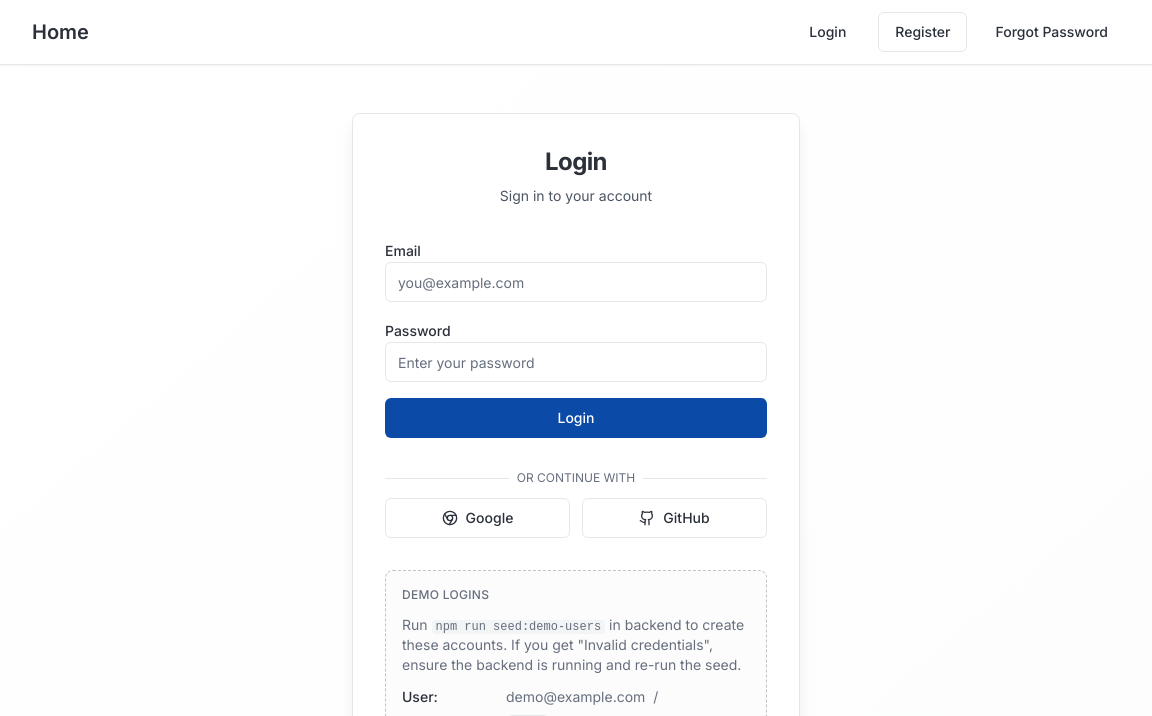
Login Page › should display error message on login failure
Type "test@example.com" into the field labelled "Email".
click(576, 282); type("test@example.com")  # box left=385, top=262, right=767, bottom=302
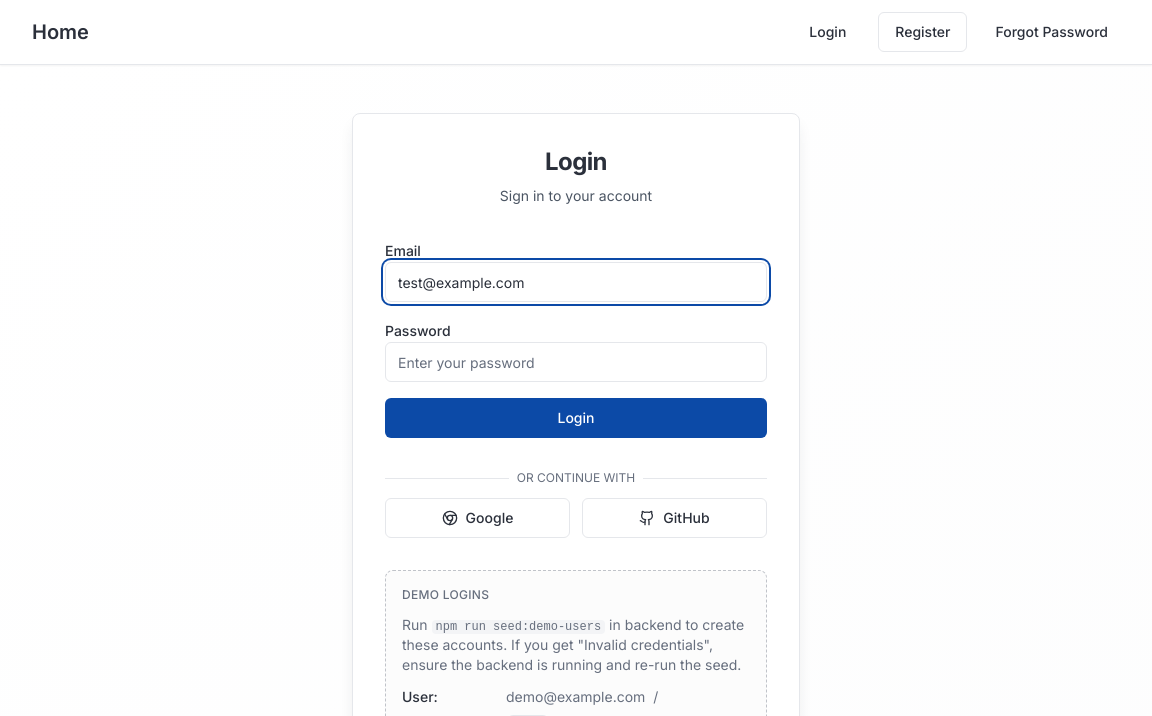
Type "wrong" into the password field labelled "Password".
click(576, 362); type("wrong")  # box left=385, top=342, right=767, bottom=382
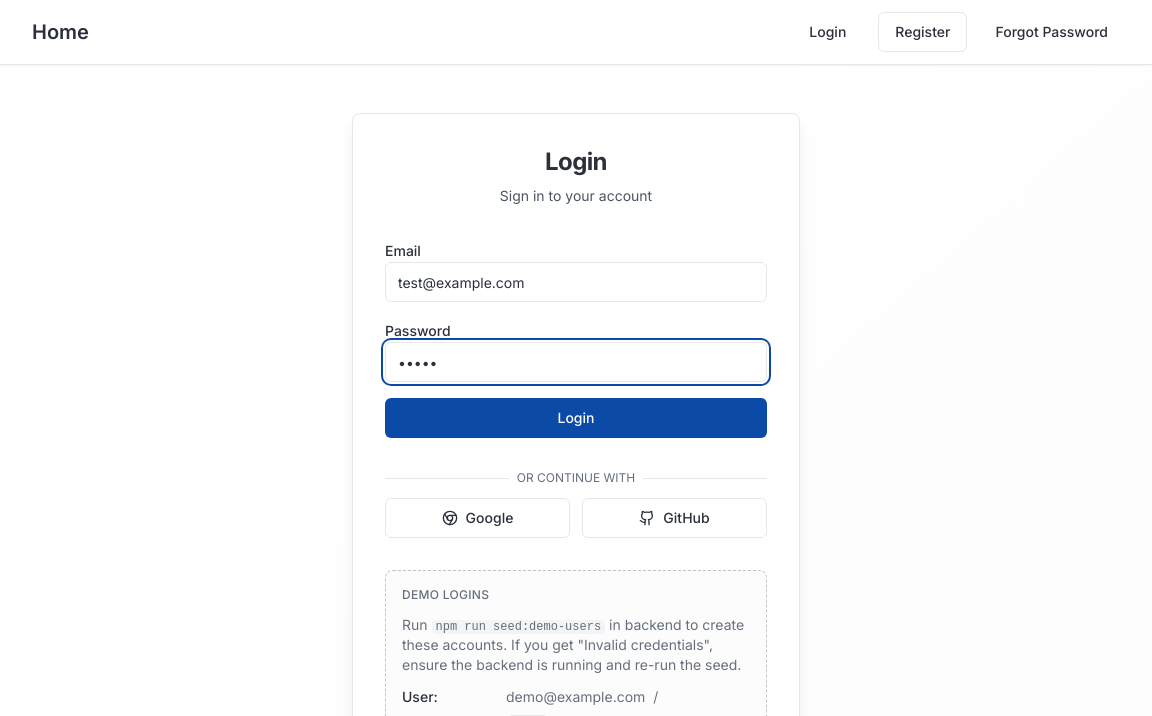
Click the button "Login".
click(576, 418)  # box left=385, top=398, right=767, bottom=438
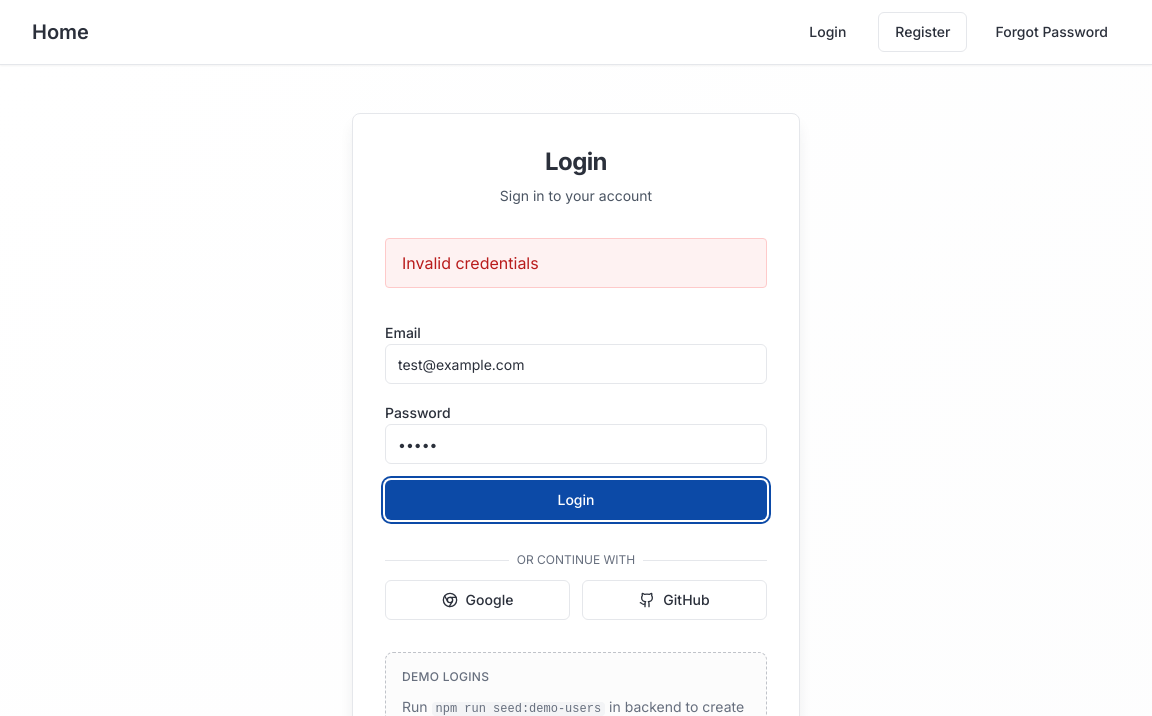
expect the message with test id "error-message" reads "Invalid credentials": met, box left=402, top=253, right=539, bottom=273
